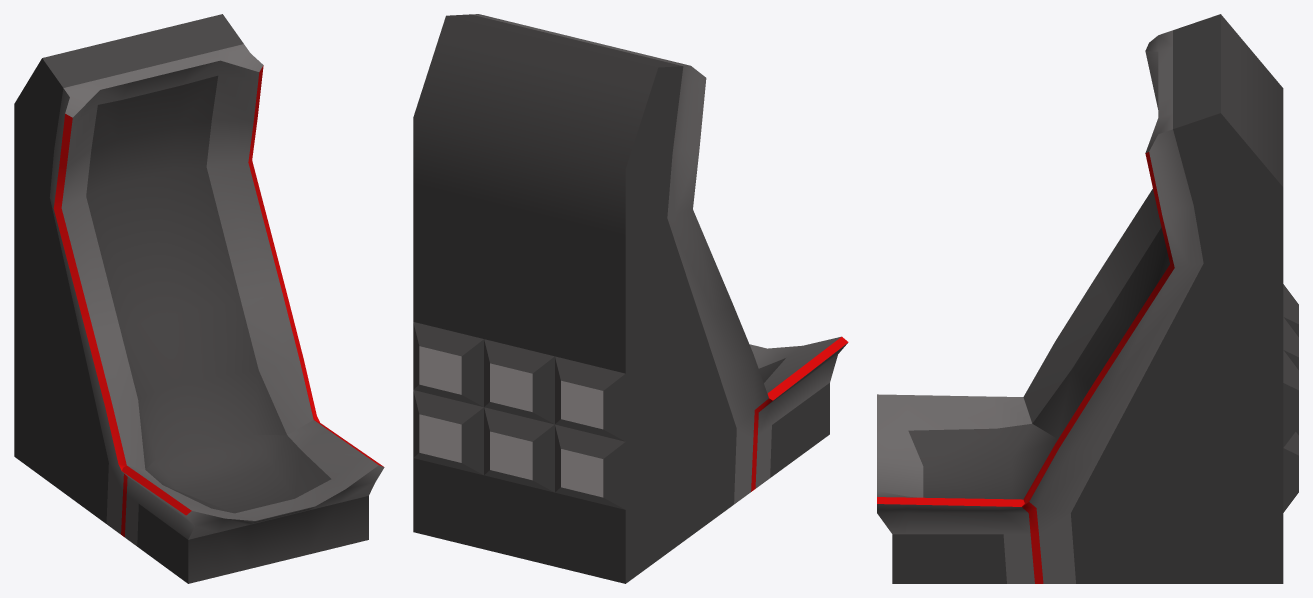
File: SLMechatronics.fbx
3 renders of one model, left to right at view 1: azimuth 30°, elevation 25°; view 2: azimuth 150°, elevation 25°; view 3: azimuth 270°, elevation 25°, orthographic. The views are drawn at different scales.
Visible parts, largest first — view 1: Cockpit; view 2: Cockpit; view 3: Cockpit.
Boxes of the visible parts, box(x1,y1,x2,y2) form: Cockpit: box(14, 14, 384, 583); Cockpit: box(413, 14, 848, 583); Cockpit: box(877, 14, 1298, 583).
Size of the model in its own units: 61.59 by 124 by 101.
